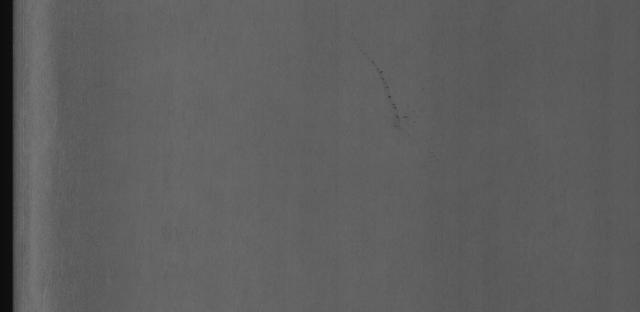water_spot: (364, 58, 412, 136)
